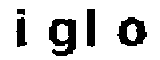g: (45, 15, 82, 60)
i: (12, 4, 36, 48)
l: (85, 9, 103, 54)
o: (116, 14, 149, 50)
